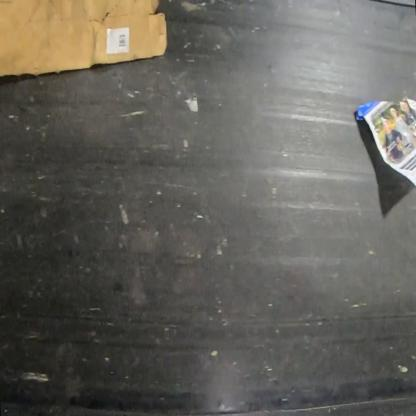cardboard: (0, 0, 168, 77)
